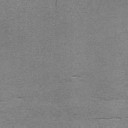finishing roll printing: (98, 96, 128, 103), (96, 116, 121, 120), (16, 94, 25, 99), (72, 74, 82, 78)
